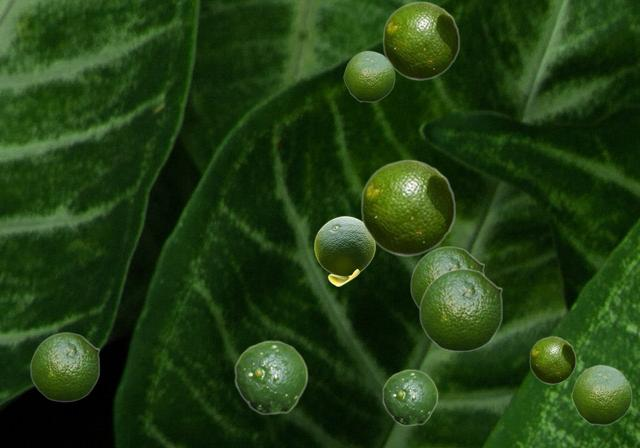calamansi: (360, 159, 455, 255), (419, 268, 502, 351), (382, 1, 459, 79), (234, 340, 307, 414), (30, 332, 99, 401), (410, 246, 484, 308), (314, 216, 374, 285), (571, 364, 631, 424), (382, 369, 437, 425), (343, 50, 394, 101), (529, 336, 575, 383)
